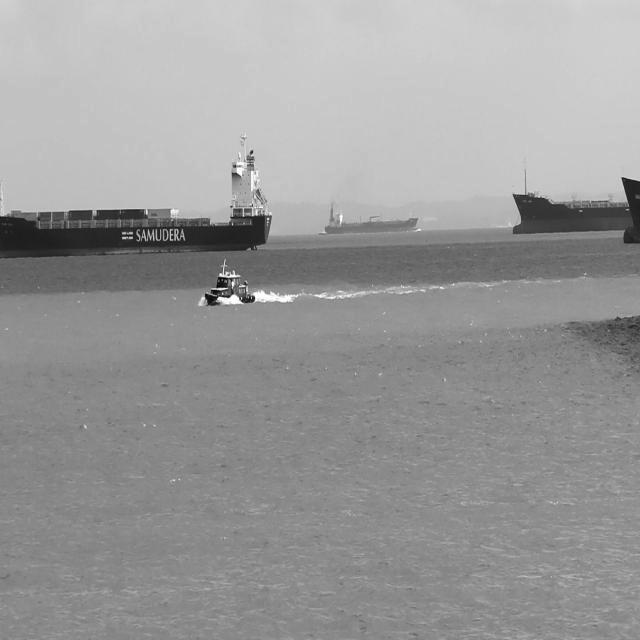ship: (0, 126, 272, 256), (510, 164, 630, 233), (324, 201, 420, 235), (205, 258, 258, 308), (621, 175, 640, 242), (317, 230, 328, 237)
